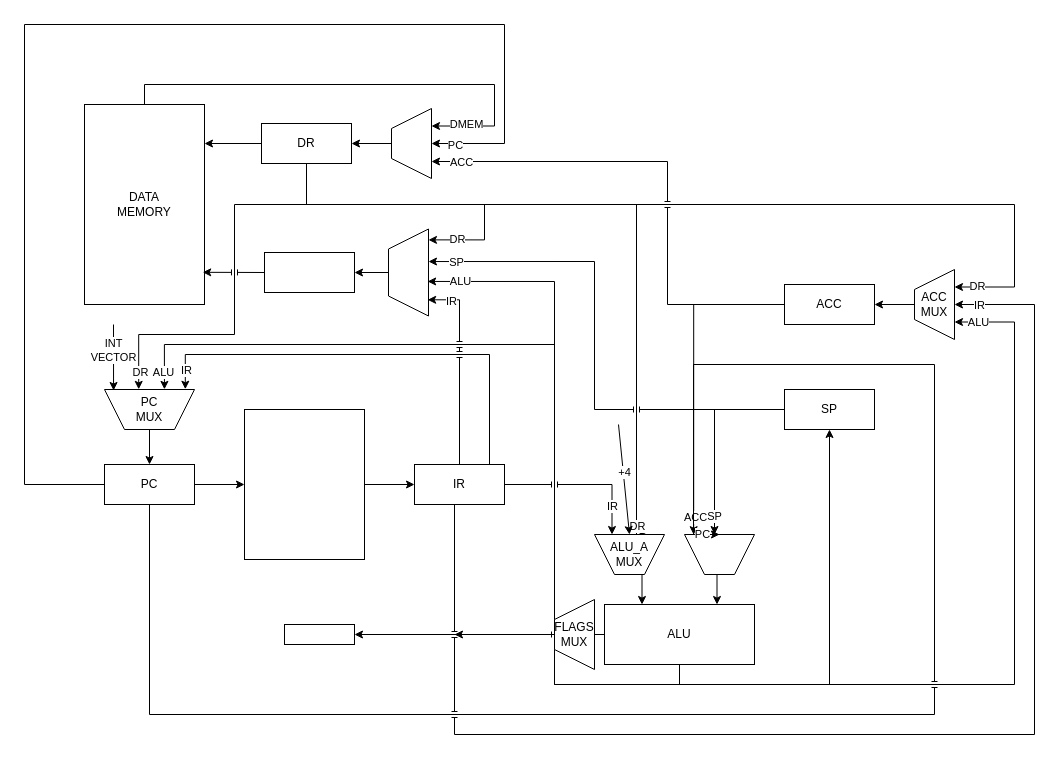
Image size: 1060x760. Some labels were removed from this diagram. The centre of each missing label's shape, as x and y in pixels:
"ALU_B MUX" belongs at (719,554).
"AR" belongs at (309,272).
"AR MUX" belongs at (408,272).
"DR MUX" belongs at (411,143).
"INSTRUCTION MEMORY" belongs at (304,484).
"NZVC" belongs at (319,634).
